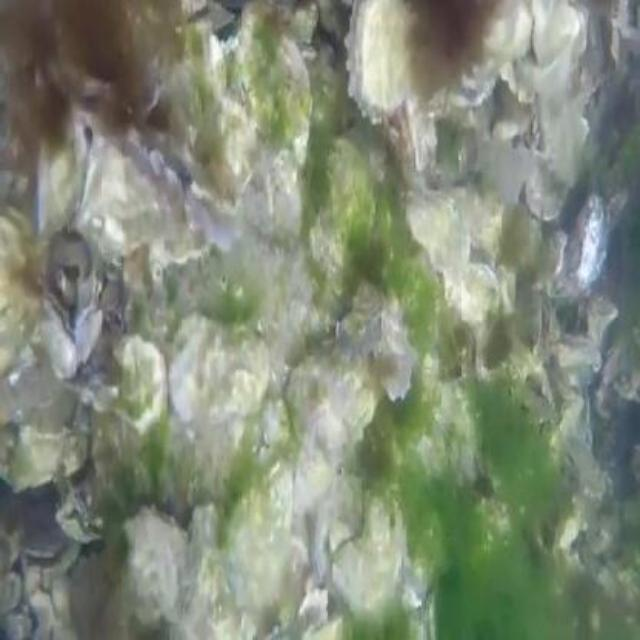Oyster-Closed: (0, 223, 89, 491), (288, 293, 385, 474), (169, 499, 258, 640), (229, 18, 310, 159), (170, 316, 270, 424), (334, 484, 403, 623), (229, 461, 293, 606), (346, 0, 420, 121), (311, 140, 374, 279), (123, 507, 190, 624), (405, 187, 471, 276), (113, 339, 168, 426), (35, 130, 80, 236), (564, 193, 609, 285), (37, 291, 79, 379), (531, 0, 582, 72), (443, 263, 499, 324), (478, 0, 532, 59), (604, 324, 640, 407), (524, 153, 568, 220), (399, 100, 438, 172), (0, 207, 31, 267), (531, 291, 553, 357), (75, 271, 101, 323), (421, 587, 439, 640), (497, 269, 517, 313)
Oyster-Open: (74, 130, 185, 261), (185, 163, 244, 246), (20, 510, 80, 583), (377, 307, 415, 404), (56, 495, 102, 544)
